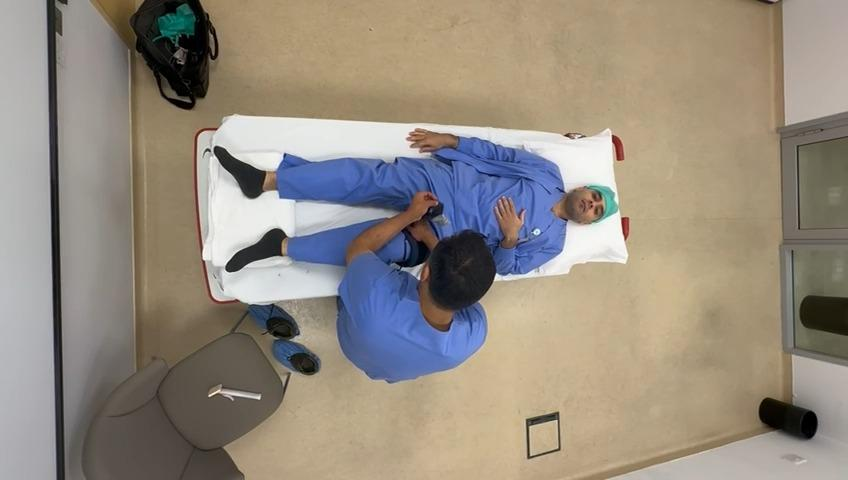bed: (197, 119, 631, 306)
patient: (214, 128, 618, 274)
prepstick: (207, 384, 260, 401)
tourniquet: (398, 230, 429, 266)
